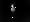person: (10, 4, 18, 15)
